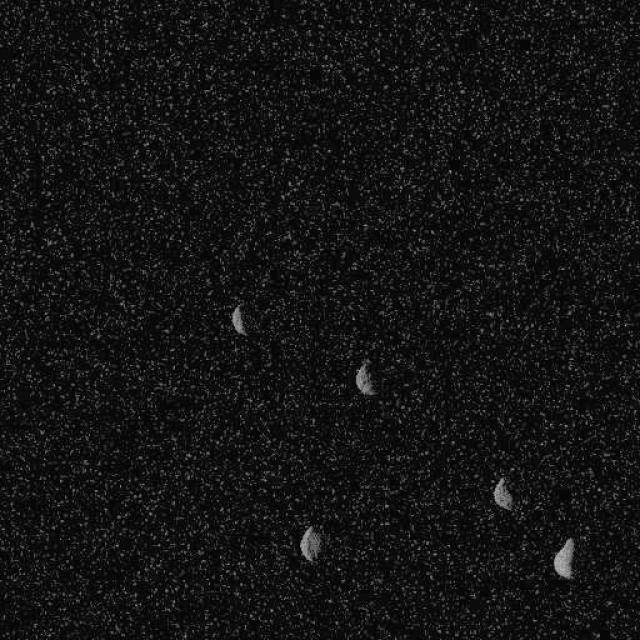D2: (551, 536, 575, 580), (353, 359, 378, 396), (299, 525, 321, 563), (491, 476, 514, 512), (230, 304, 248, 336)
